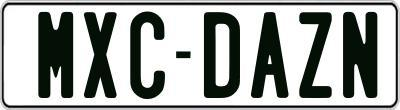A: (251, 12, 290, 104)
C: (127, 10, 162, 101)
D: (202, 12, 244, 98)
M: (35, 10, 76, 98)
N: (341, 12, 380, 98)
X: (81, 9, 118, 95)
Z: (299, 12, 332, 100)
